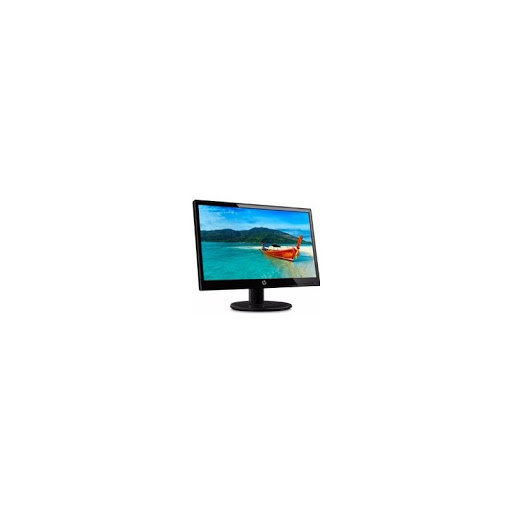hp-monitor-19ka: (192, 202, 320, 311)
